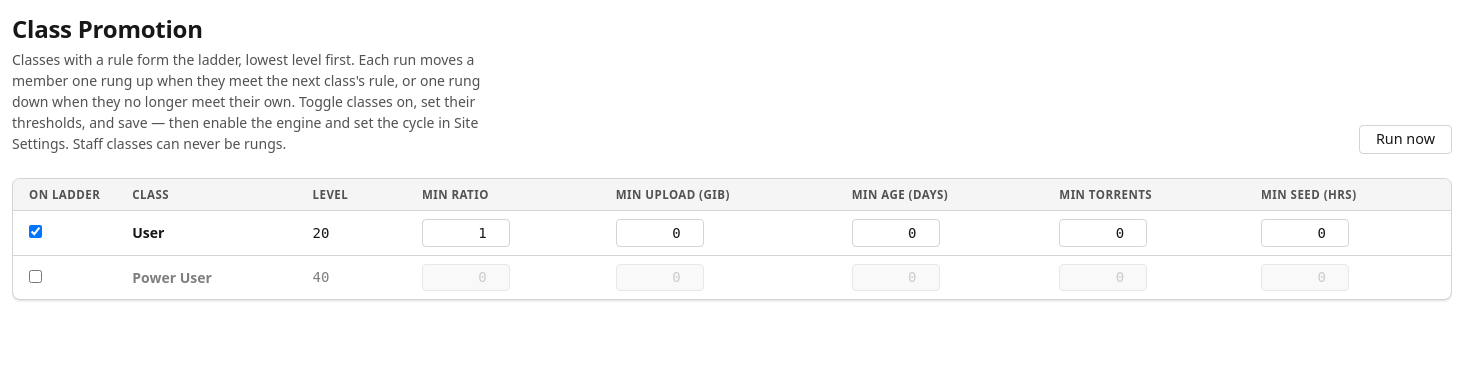
Test: AdminPromotionPage › shows the save bar only after a change
Expected: the text "User" is shown, x1=116 y1=210 x2=296 y2=255
Expected: the button "Save changes" is not shown
Click the checkbox named "Include Power User in ladder". click: (36,276)
box: x1=29 y1=270 x2=42 y2=283
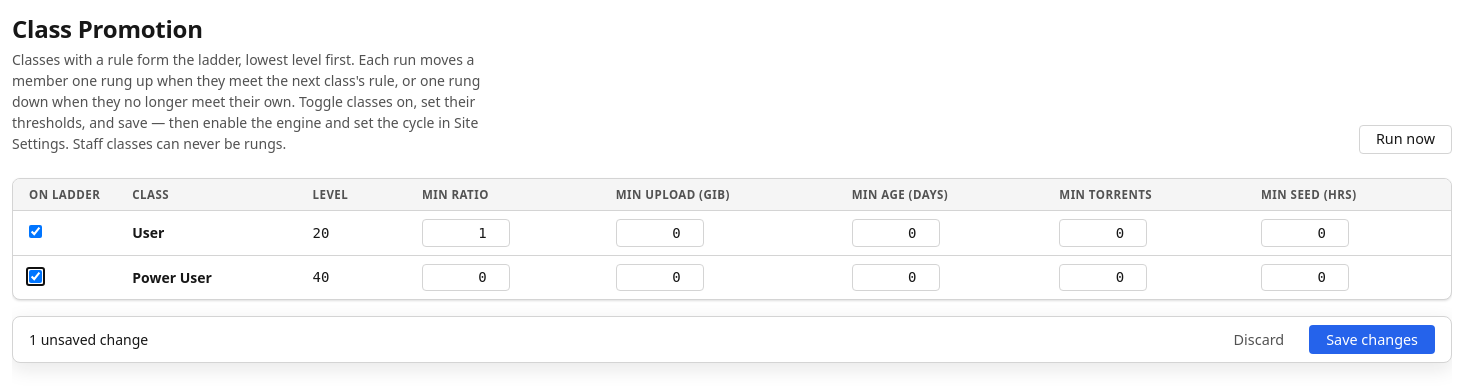
Expected: the button "Save changes" is shown, x1=1309 y1=325 x2=1435 y2=354
Expected: the text "1 unsaved change" is shown, x1=29 y1=330 x2=148 y2=349
